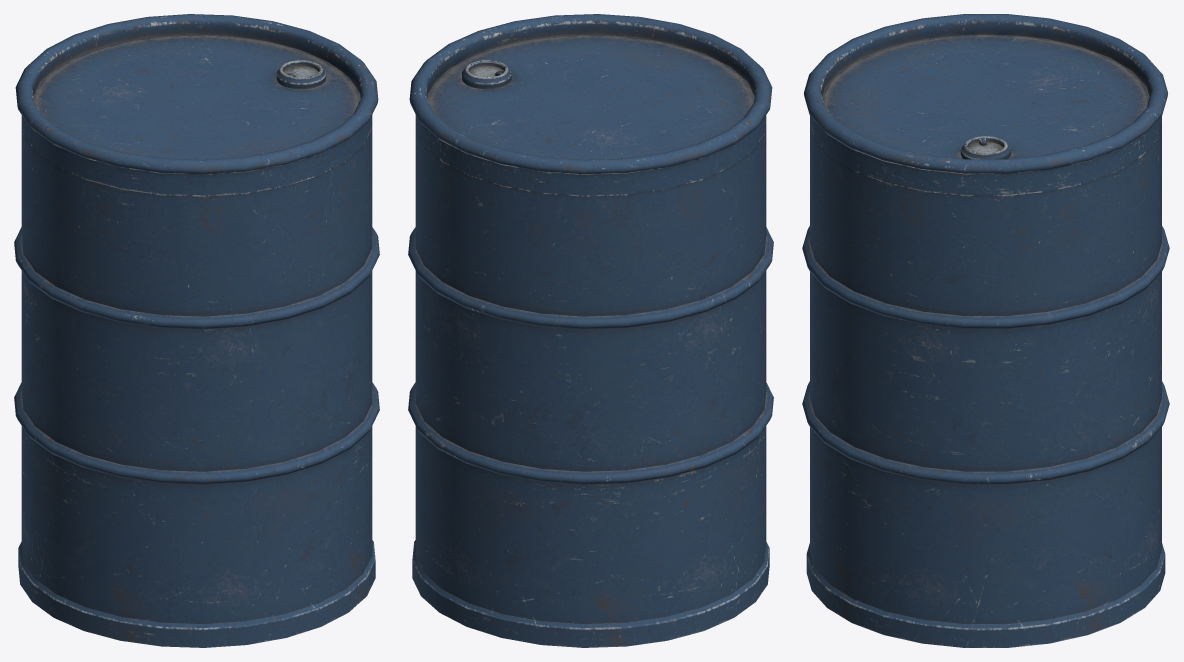
File: TONEL.glb
3 renders of one model, left to right at view 1: azimuth 30°, elevation 25°; view 2: azimuth 150°, elevation 25°; view 3: azimuth 270°, elevation 25°, orthographic.
Visible parts, largest first — view 1: barrel_03; view 2: barrel_03; view 3: barrel_03.
Part boxes in pixels (box(x1,y1,x2,y2)): barrel_03: box(14, 14, 379, 647); barrel_03: box(408, 14, 773, 647); barrel_03: box(802, 14, 1169, 647).
Size of the model in its own units: 0.6339 by 0.9305 by 0.6386.
1 material, 1 textured.
